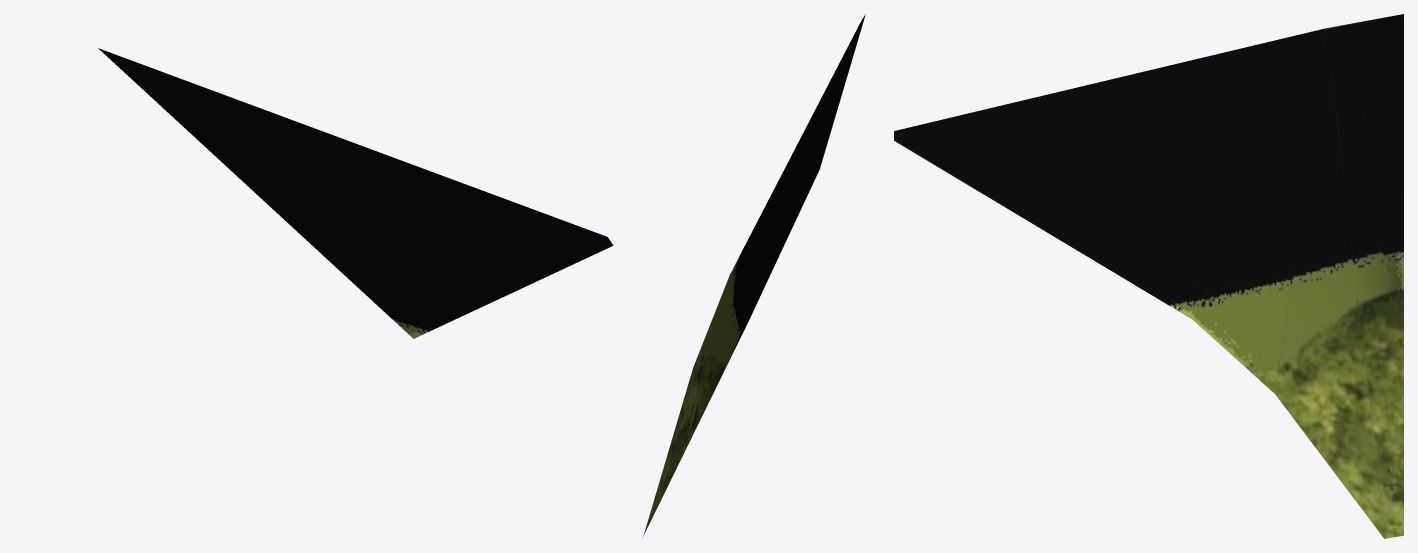
The picture shows the model from 3 angles, left to right: view 1: azimuth 30°, elevation 25°; view 2: azimuth 150°, elevation 25°; view 3: azimuth 270°, elevation 25°; orthographic projection. The views are drawn at different scales.
Bounding box in the file's own units: 2.57 × 5.51 × 5.9.
Materials: 2 (2 with a texture image).
